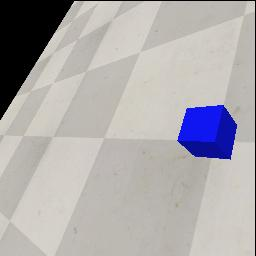box: (177, 105, 237, 160)
